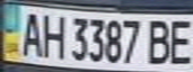3: (66, 14, 90, 62), (84, 15, 106, 63)
7: (121, 16, 145, 64)
8: (103, 16, 127, 64)
A: (15, 9, 45, 57)
B: (142, 16, 175, 65)
E: (166, 16, 193, 66)
H: (39, 10, 66, 60)
